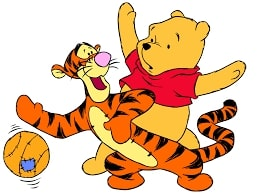Winnie: (129, 1, 212, 101)
